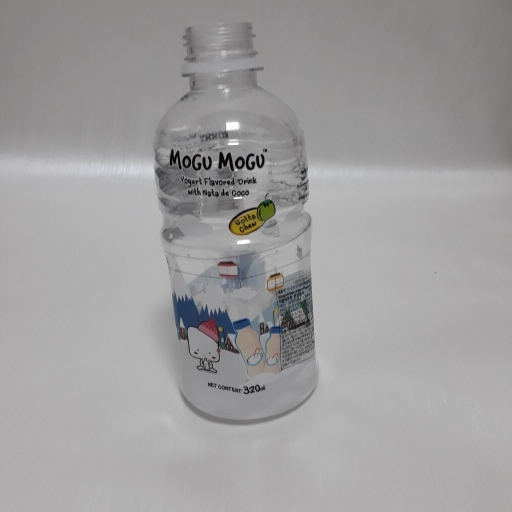Plastic_0: (150, 19, 319, 424)
